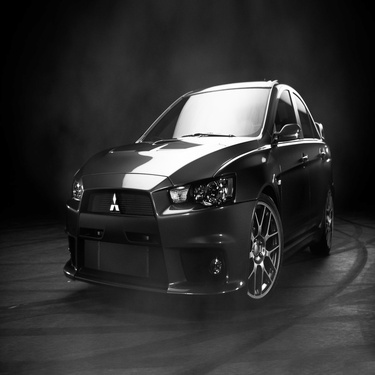car: (32, 73, 352, 323)
